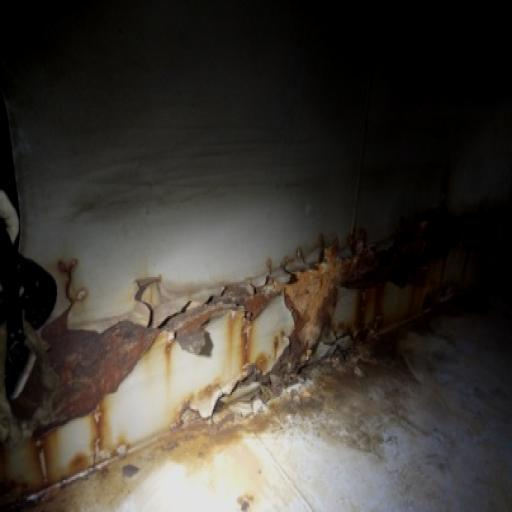Detect-rust-on-metal-surfaces: (1, 151, 512, 510)
